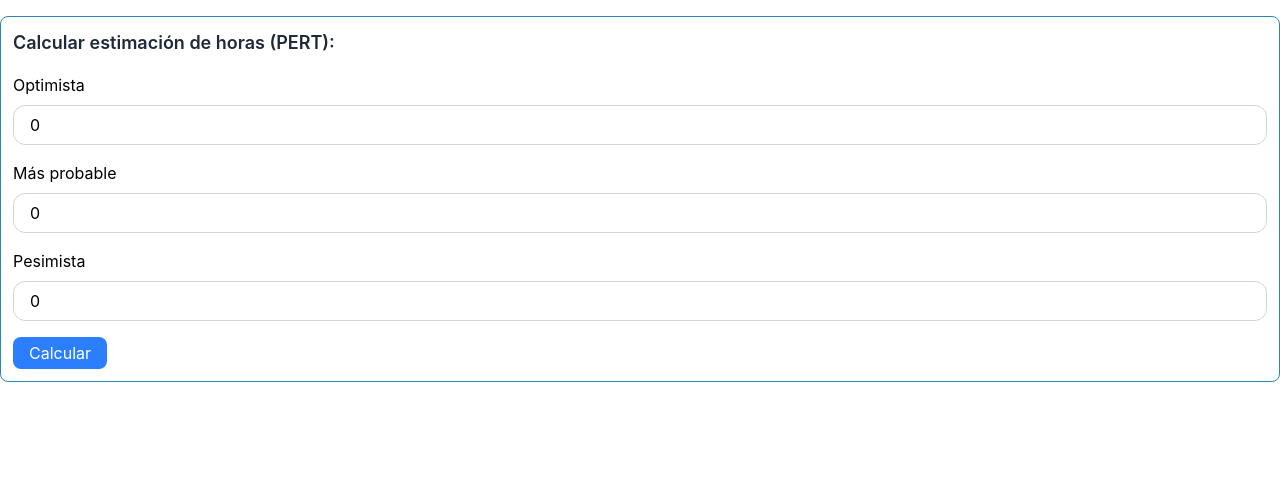
Scenario: Calculator › calcula la estimación PERT y muestra el resultado
The width and height of the screenshot is (1280, 479).
Replace the text in the number field below "Optimista" with "2" at (640,125), box [13,105,1267,145]
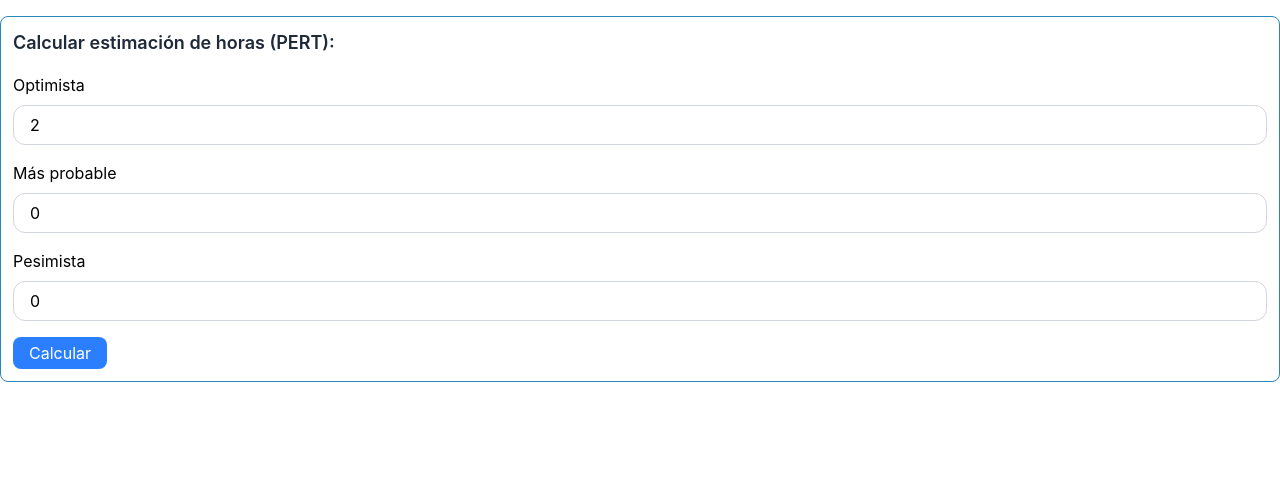
Replace the text in the number field below "Más probable" with "4" at (640,213), box [13,193,1267,233]
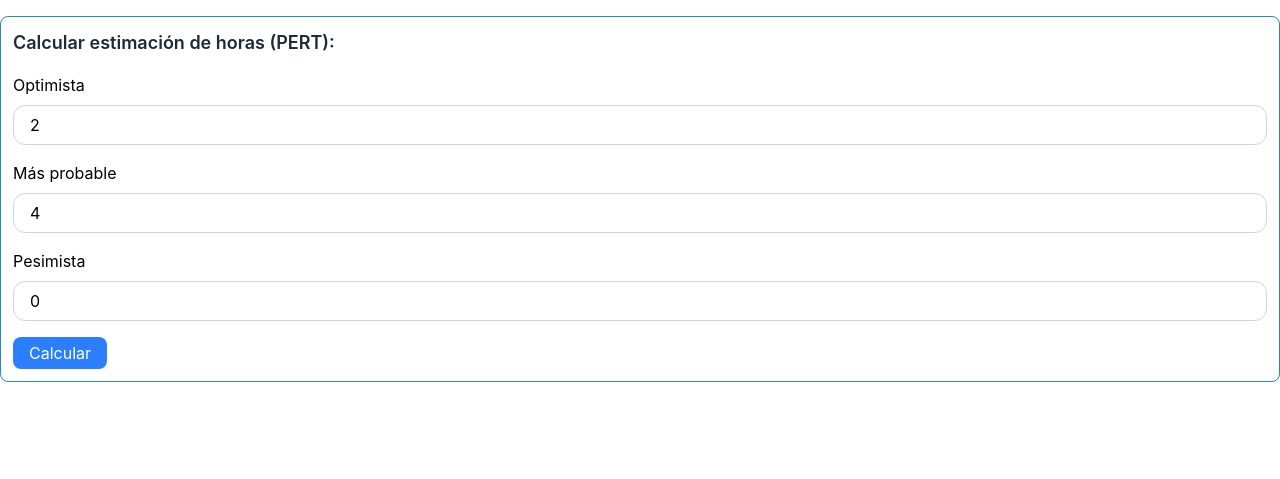
Replace the text in the number field below "Pesimista" with "8" at (640,301), box [13,281,1267,321]
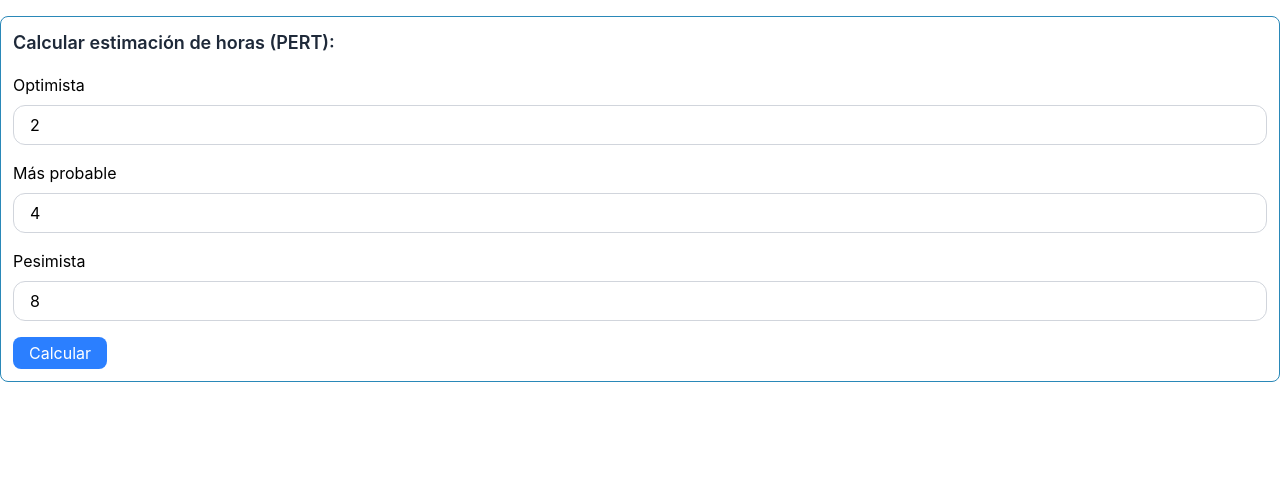
Click the button "Calcular".
click(60, 353)  # box [13,337,107,369]
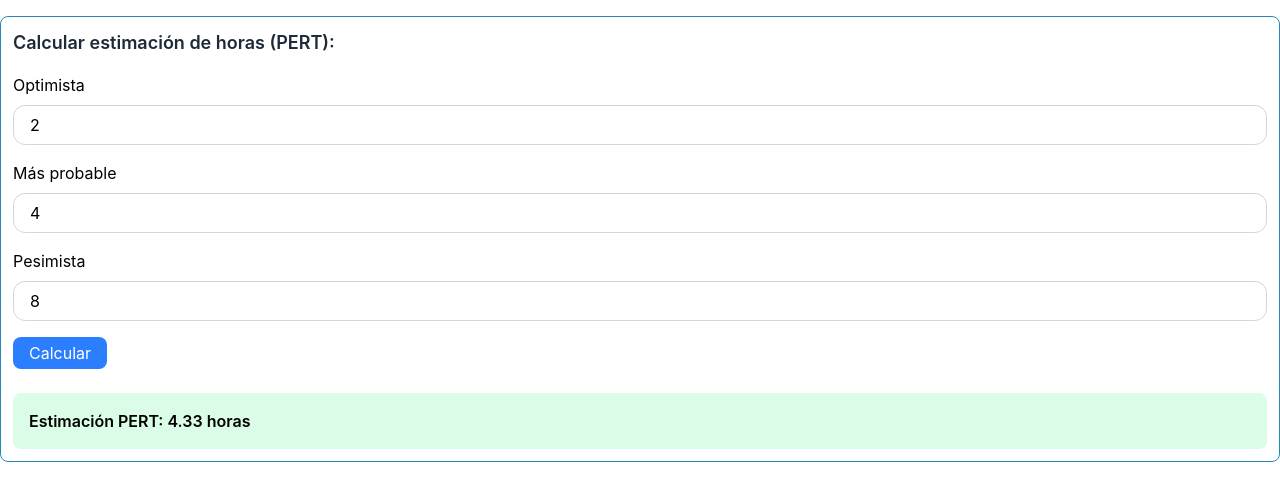
Result: the text "Estimación PERT: 4.33 horas" is shown at [29,411,250,431]
